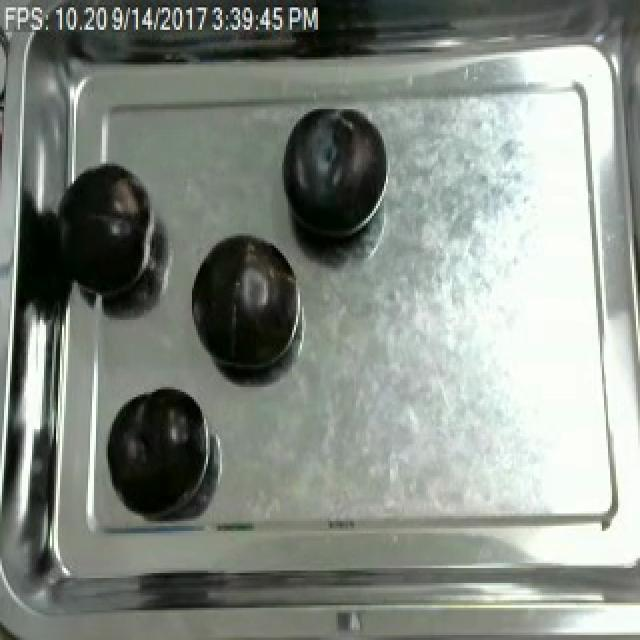Fruit: (188, 228, 298, 382), (48, 158, 160, 308), (276, 104, 390, 251), (104, 382, 212, 514)
